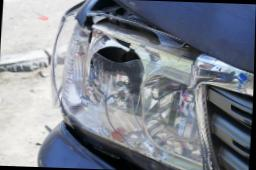Light: (62, 20, 202, 170)
